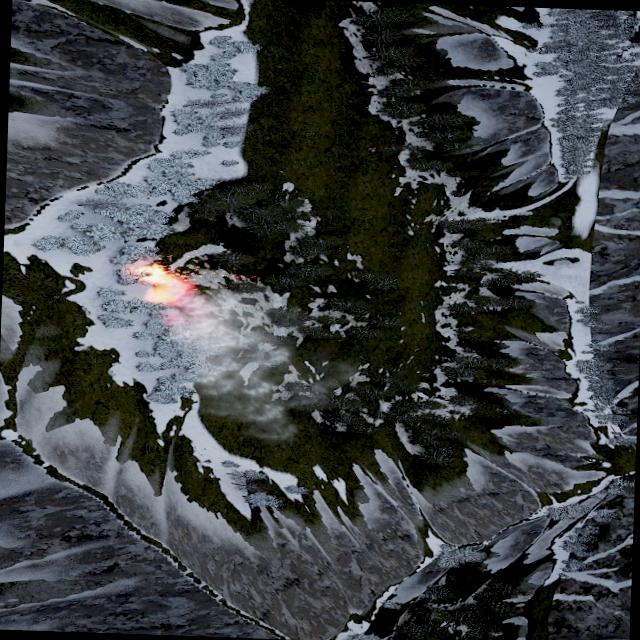fire: (137, 262, 190, 306)
smoke: (162, 286, 314, 443)
